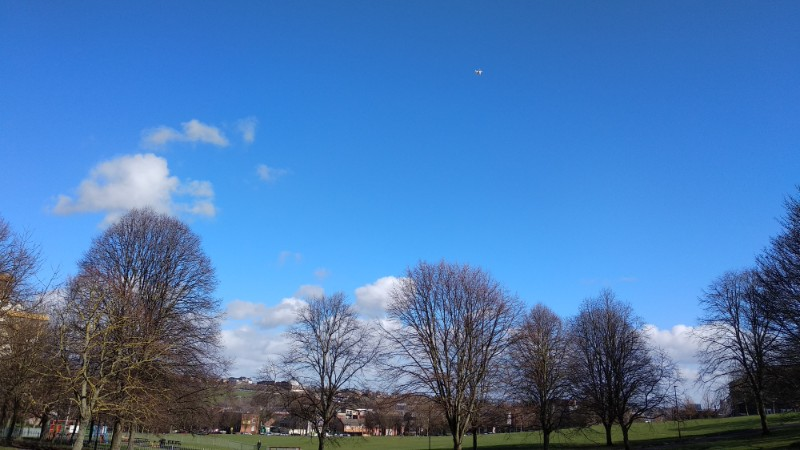drone: (472, 67, 485, 78)
